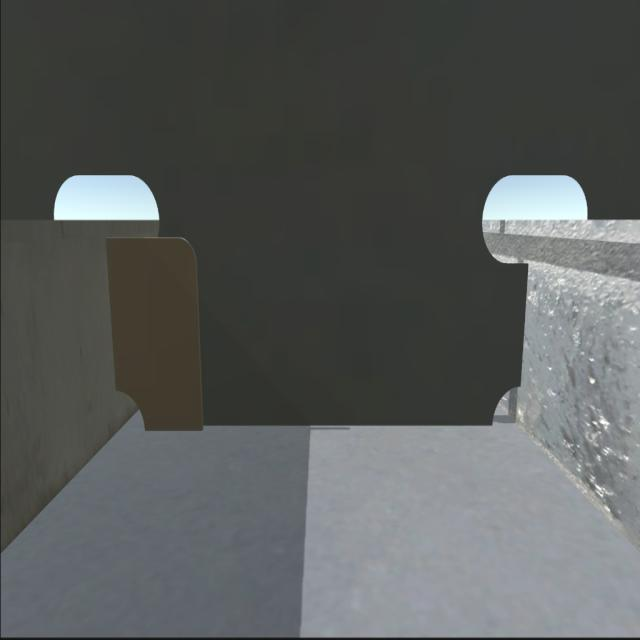fillet_hole: (487, 382, 524, 427), (116, 388, 148, 438)
fillet_yong_jeop_jang: (143, 422, 495, 434)
longi_yong_jeop_jang: (101, 238, 125, 396), (516, 260, 532, 387)
plate_CP05: (103, 239, 204, 433)
